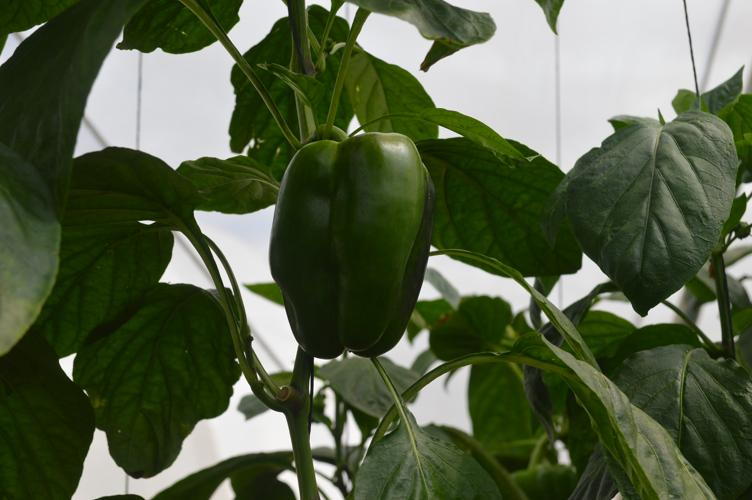BellPepper: (268, 132, 436, 360)
